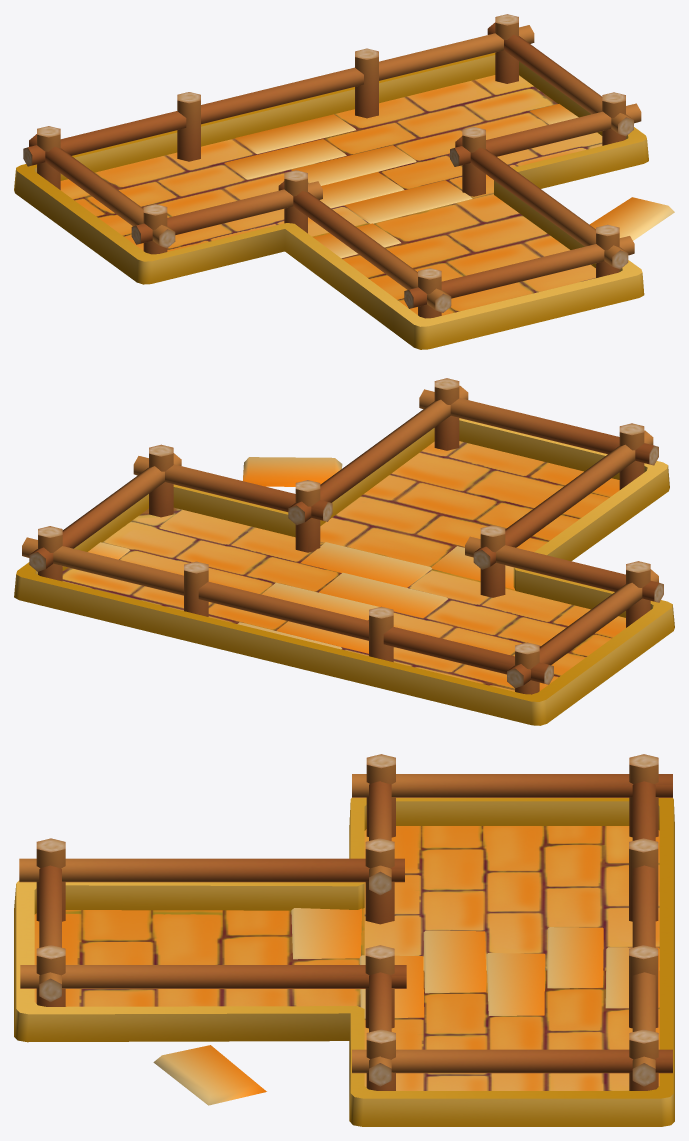
The model's file is ArabianHouse_S_09.fbx.
3 renders of one model, top to bottom at view 1: azimuth 30°, elevation 25°; view 2: azimuth 150°, elevation 25°; view 3: azimuth 270°, elevation 25°, orthographic. The views are drawn at different scales.
Parts seen in each view (by area): view 1: ArabianHouse_S_09; view 2: ArabianHouse_S_09; view 3: ArabianHouse_S_09.
Part boxes in pixels (left/top/right/bottom): ArabianHouse_S_09: left=14, top=14, right=674, bottom=349; ArabianHouse_S_09: left=14, top=378, right=674, bottom=725; ArabianHouse_S_09: left=14, top=754, right=674, bottom=1126.
Bounding box in the file's own units: 6.77 × 0.8039 × 6.16.
